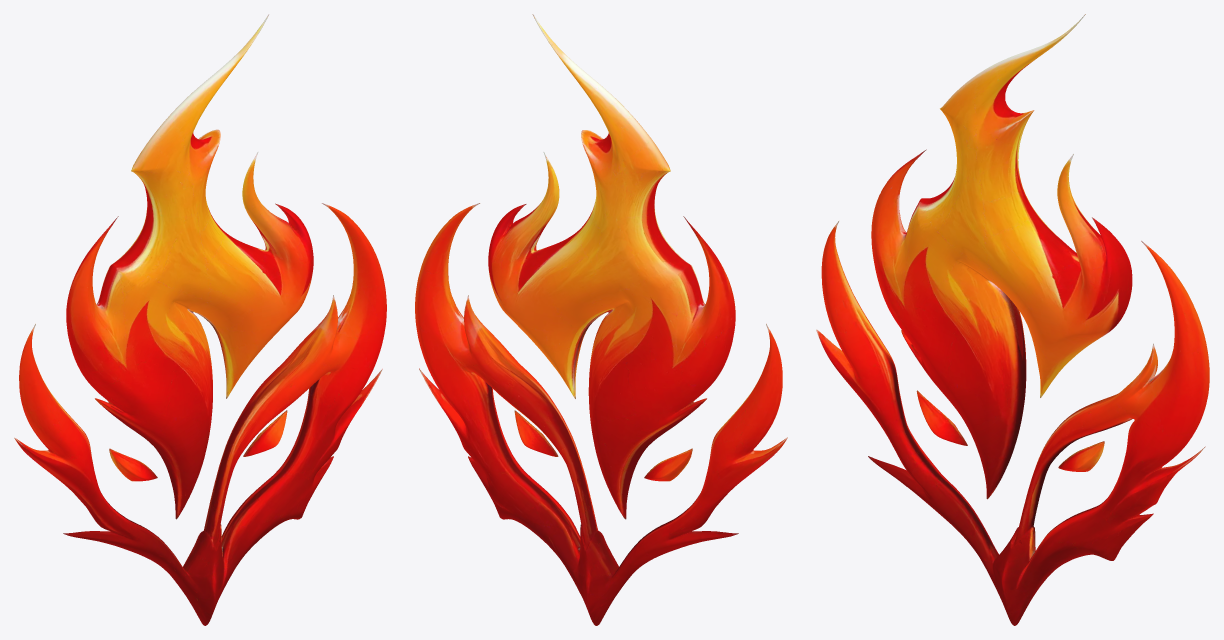
File: 3Dicon.optimized.glb
3 views of the same model, side by side, from view 1: azimuth 30°, elevation 25°; view 2: azimuth 150°, elevation 25°; view 3: azimuth 330°, elevation 25° (orthographic). The views are drawn at different scales.
Size of the model in its own units: 1.24 by 1.9 by 0.2069.
1 material, 1 textured.
